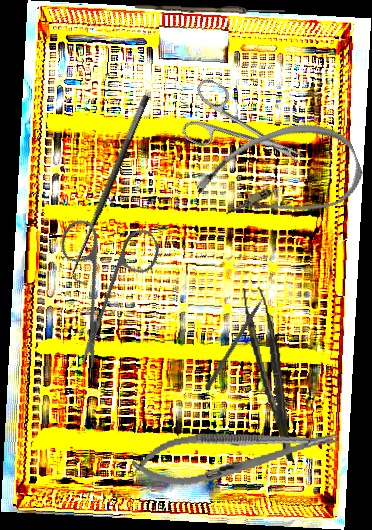Cannula: (188, 107, 370, 249)
Hook Surgical: (62, 93, 165, 287)
Iris Scissors: (13, 189, 195, 372), (174, 75, 316, 191)
Needle Holder: (129, 414, 343, 494)
Pusher: (204, 284, 274, 392)
Surgical Spoon: (134, 4, 286, 15)
Tissue Forceps: (242, 284, 294, 465)
